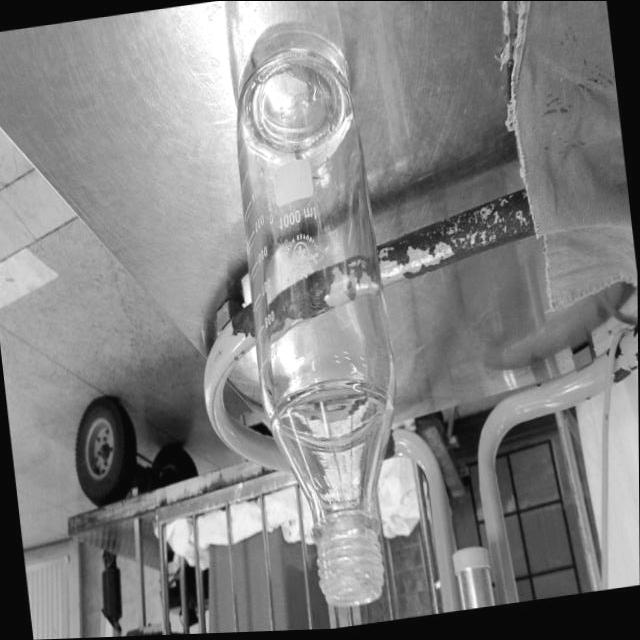General: (2, 2, 638, 634)
Sharps: (213, 1, 398, 609)
